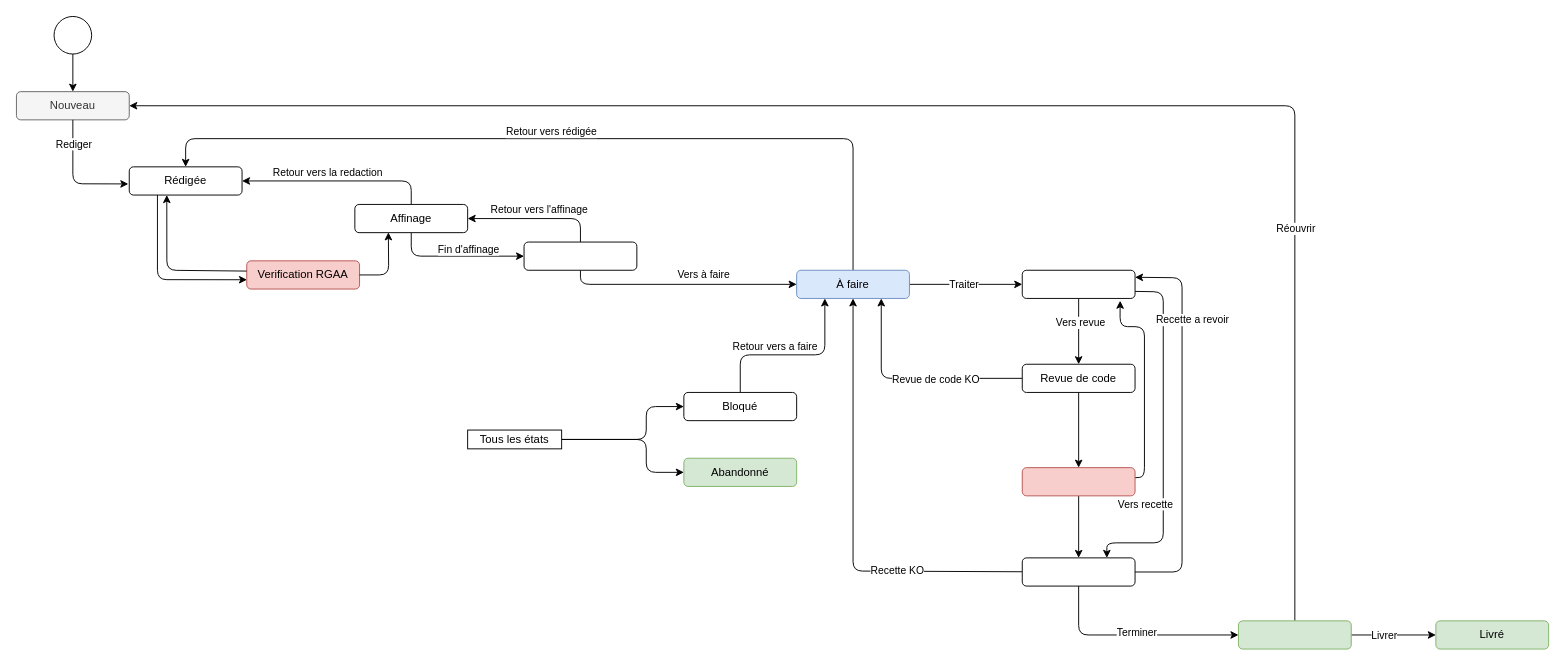
Some shapes in this 1565 by 666 pixel diagram are drawn without their labels. Each missing label, with the box of its shape:
En cours: (1021, 269, 1135, 298)
Prêt: (523, 241, 637, 270)
Recette: (1021, 557, 1135, 586)
Revue RGAA: (1021, 467, 1135, 496)
Terminé: (1238, 620, 1351, 649)
